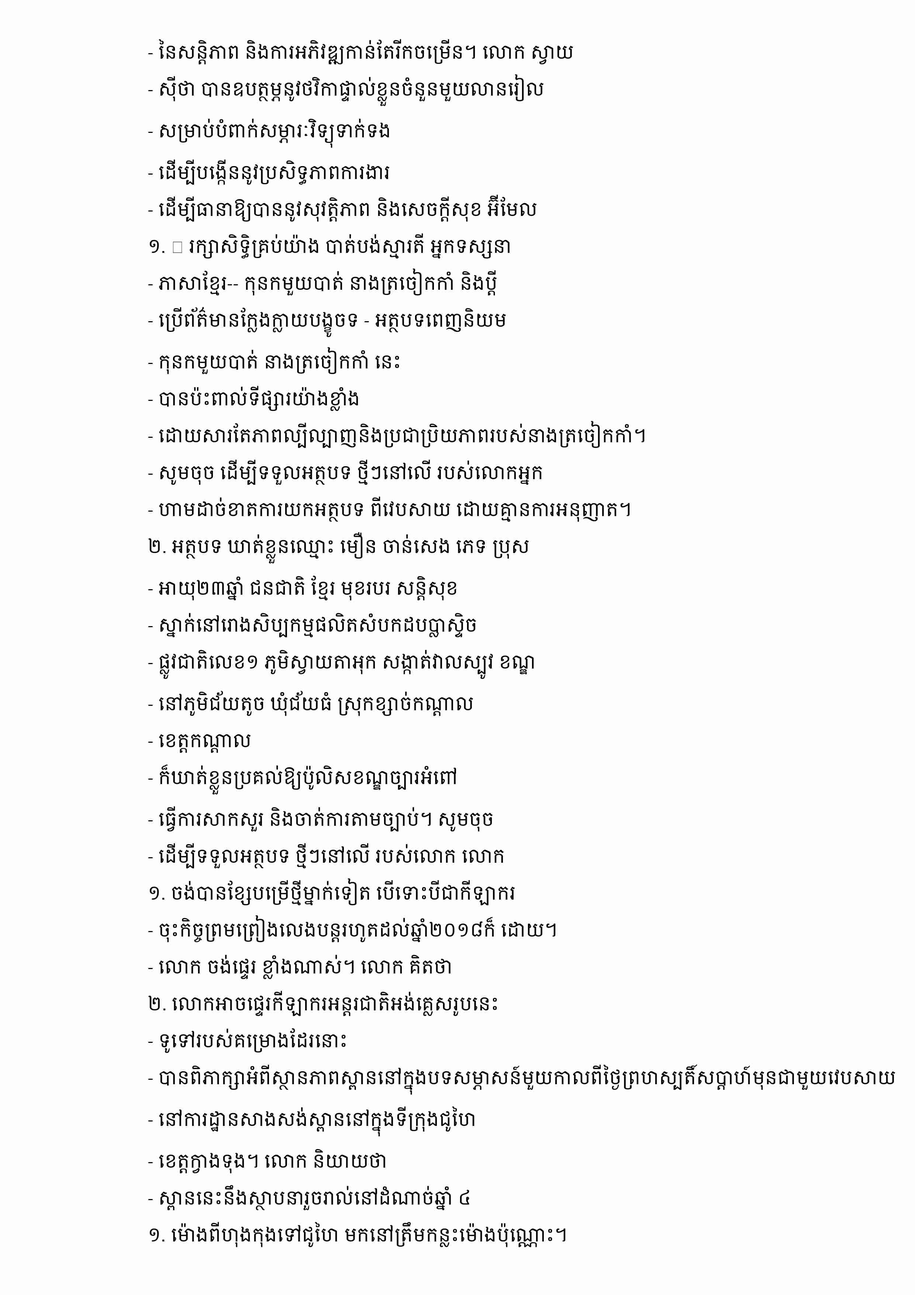text: (148, 1064, 901, 1095), (148, 421, 651, 448), (148, 74, 549, 106), (148, 532, 535, 564), (148, 497, 636, 522), (148, 650, 541, 679), (148, 39, 579, 65), (148, 915, 563, 942), (148, 307, 512, 337), (148, 195, 542, 222), (148, 1222, 573, 1247), (148, 878, 521, 906), (148, 1106, 481, 1137), (148, 460, 548, 485), (148, 268, 503, 296), (148, 233, 517, 259), (148, 765, 463, 795), (148, 843, 510, 869), (148, 806, 499, 832), (148, 991, 504, 1016), (148, 613, 483, 638), (148, 691, 479, 716), (148, 1185, 476, 1210), (148, 576, 463, 601), (148, 118, 396, 148), (148, 955, 458, 979), (148, 347, 406, 374), (148, 159, 395, 185), (148, 1149, 392, 1174), (148, 386, 365, 411), (148, 1028, 353, 1053), (148, 734, 256, 753)
